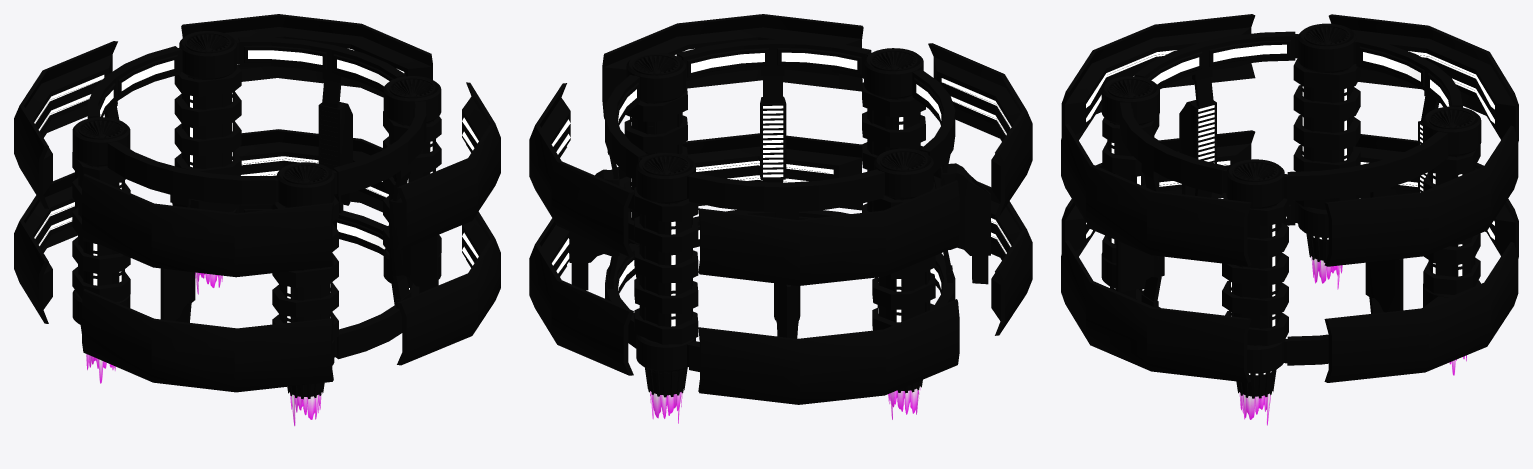
The model's file is bolt-engine.glb.
The picture shows the model from 3 angles, left to right: view 1: azimuth 30°, elevation 25°; view 2: azimuth 150°, elevation 25°; view 3: azimuth 270°, elevation 25°; orthographic projection. The views are drawn at different scales.
Visible parts, largest first — view 1: engineOuterMeshLOD0, engineInnerMeshLOD0, Thrusters; view 2: engineOuterMeshLOD0, engineInnerMeshLOD0, Thrusters; view 3: engineOuterMeshLOD0, engineInnerMeshLOD0, Thrusters.
Boxes of the visible parts, box(x1,y1,x2,y2) form: engineOuterMeshLOD0: box(14, 14, 500, 392); engineInnerMeshLOD0: box(72, 31, 441, 399); Thrusters: box(86, 272, 321, 425); engineOuterMeshLOD0: box(529, 14, 1032, 404); engineInnerMeshLOD0: box(569, 39, 990, 397); Thrusters: box(650, 387, 920, 423); engineOuterMeshLOD0: box(1061, 14, 1518, 382); engineInnerMeshLOD0: box(1101, 23, 1481, 398); Thrusters: box(1239, 256, 1466, 425).
Size of what is drawn, in the model's own units: 277 by 186 by 277.
Materials: 3 (1 with a texture image).
